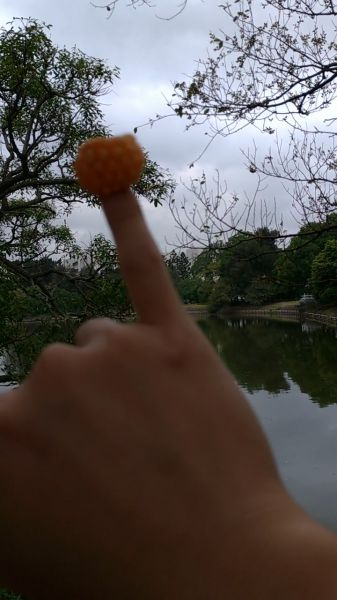eggs: (73, 134, 144, 195)
